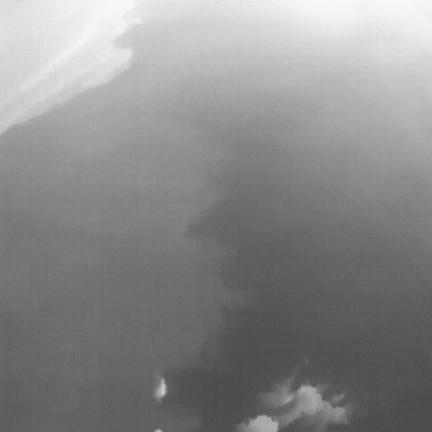flukeprints: (270, 386, 348, 428), (238, 415, 278, 431), (154, 377, 167, 402)
